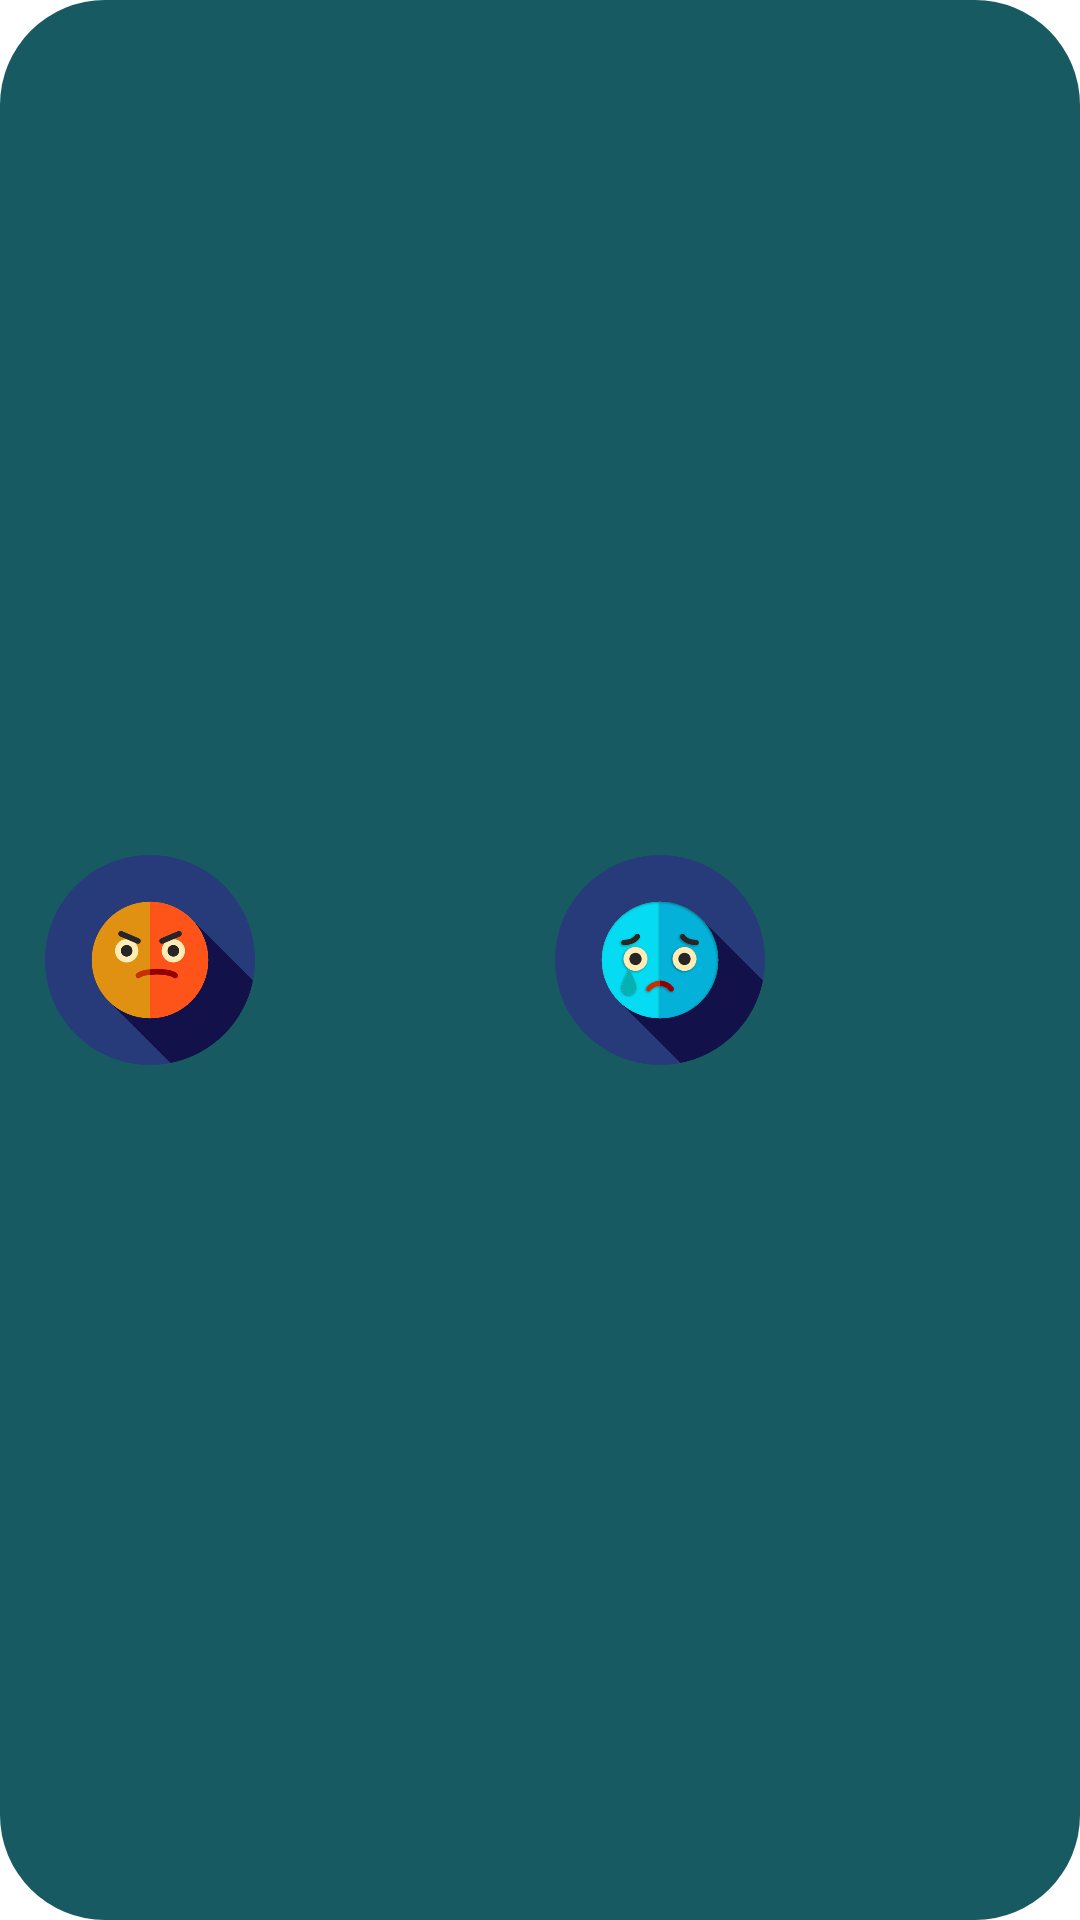

Screen size 1080×1920. Icon name, then its center in pixels as (x,y):
mood angry: (150,960)
mood sad: (660,960)
